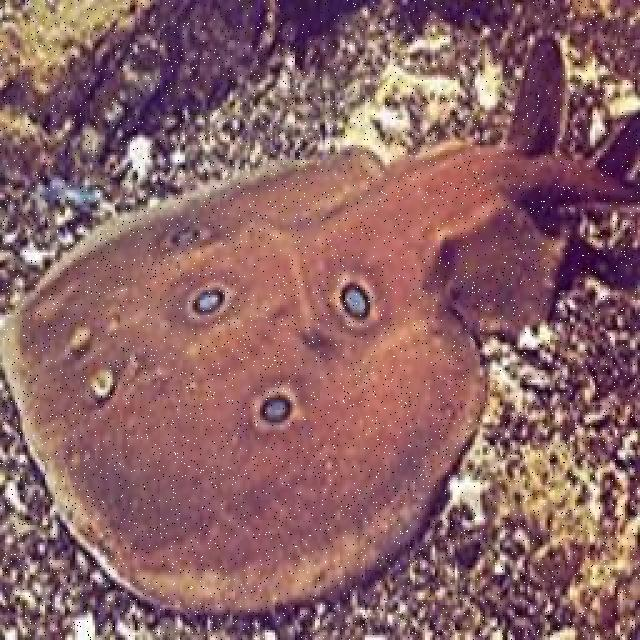reefs: (0, 37, 638, 619)
